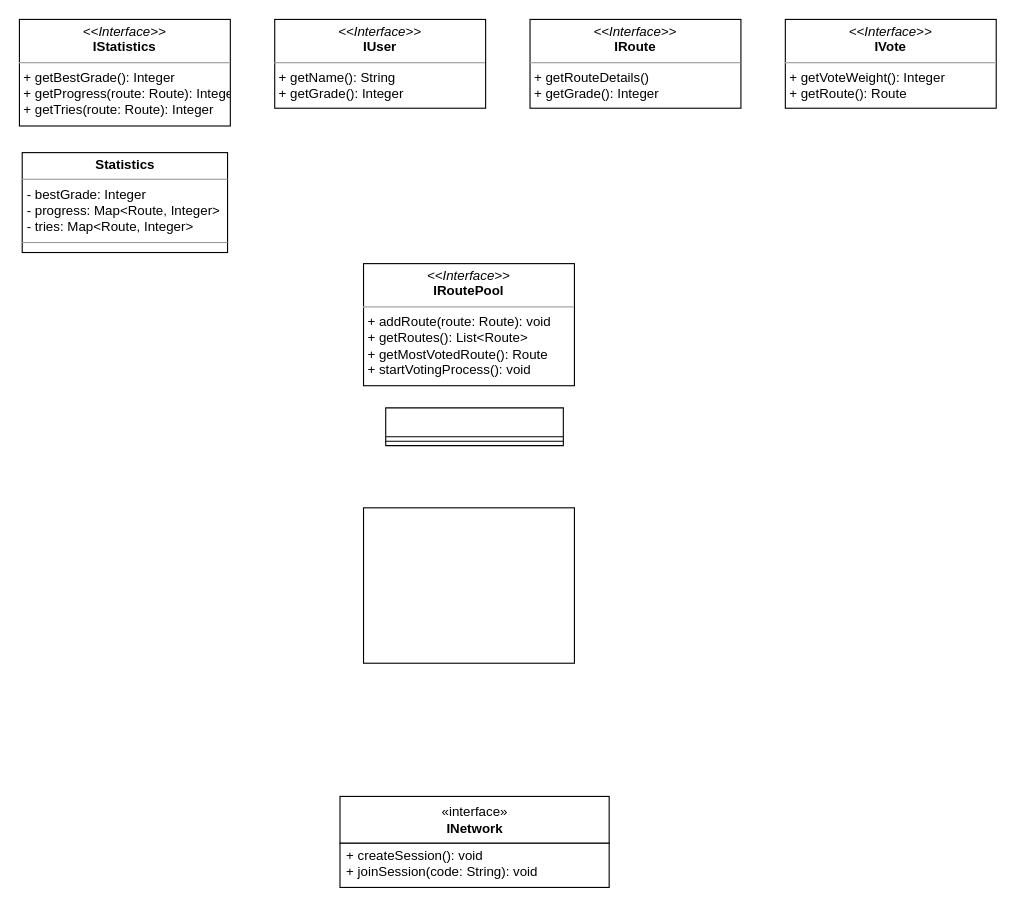
Some shapes in this 1016 by 910 pixel diagram are drawn without their labels. The shapes that lost their labels are listed below. From the top down, each one's box as (x1, y1, x2, y2) in pixels, then its label:
(385, 407, 563, 446): RoutePool
(362, 507, 574, 663): <<Interface>> ISession + startSession(): void + getUsers(): List<User>
